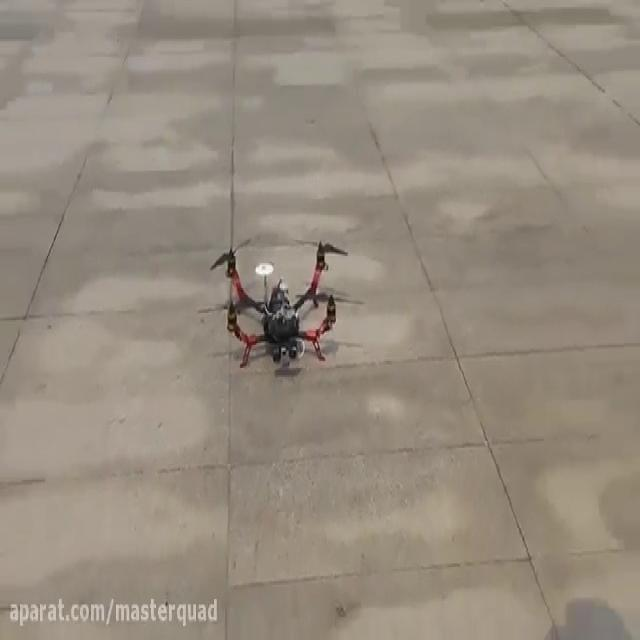drone: (200, 233, 363, 368)
